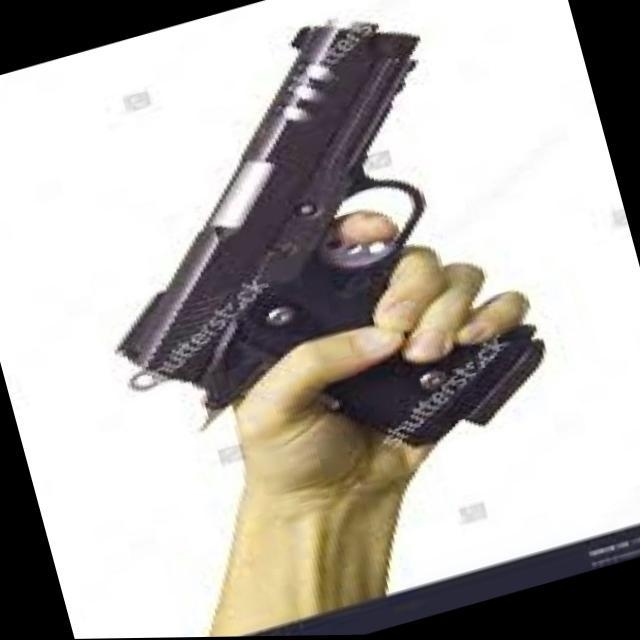weapon: (42, 0, 561, 522)
